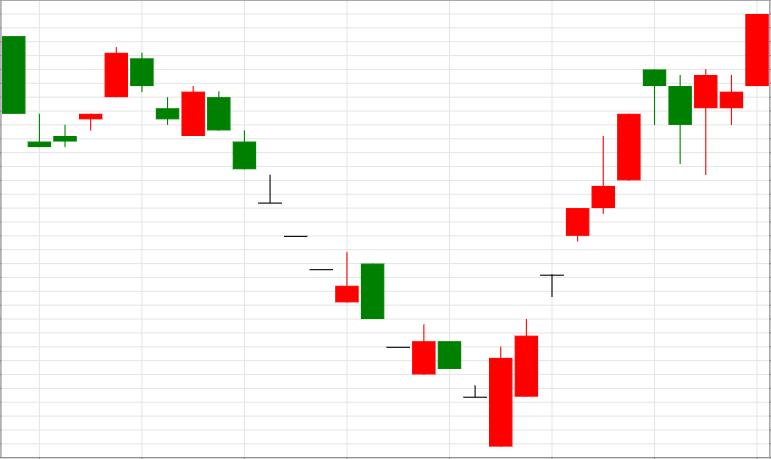evening_star_fall: (489, 69, 692, 446)
hanging_man_fall: (489, 69, 718, 446)
shooting_star_fall: (489, 136, 615, 446)
